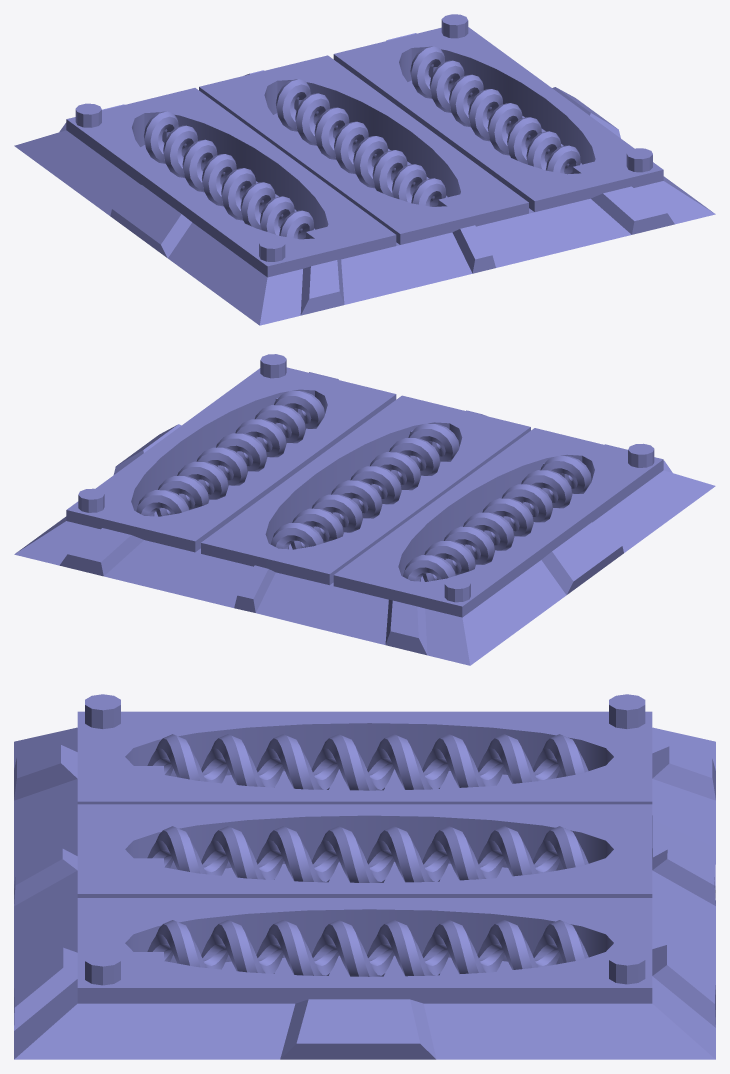
Rendered from heat_trap.fbx.
3 views of the same model, one above another, from view 1: azimuth 30°, elevation 25°; view 2: azimuth 150°, elevation 25°; view 3: azimuth 270°, elevation 25° (orthographic). The views are drawn at different scales.
Parts seen in each view (by area): view 1: pCube4, pHelix4; view 2: pCube4, pHelix4; view 3: pCube4, pHelix4.
Part boxes in pixels (box(x1,y1,x2,y2)): pCube4: box(14, 14, 715, 325); pHelix4: box(144, 46, 580, 239); pCube4: box(14, 354, 715, 665); pHelix4: box(136, 391, 591, 581); pCube4: box(14, 694, 715, 1059); pHelix4: box(147, 734, 588, 976).
Size of the model in its own units: 14.32 by 1.46 by 13.23.
